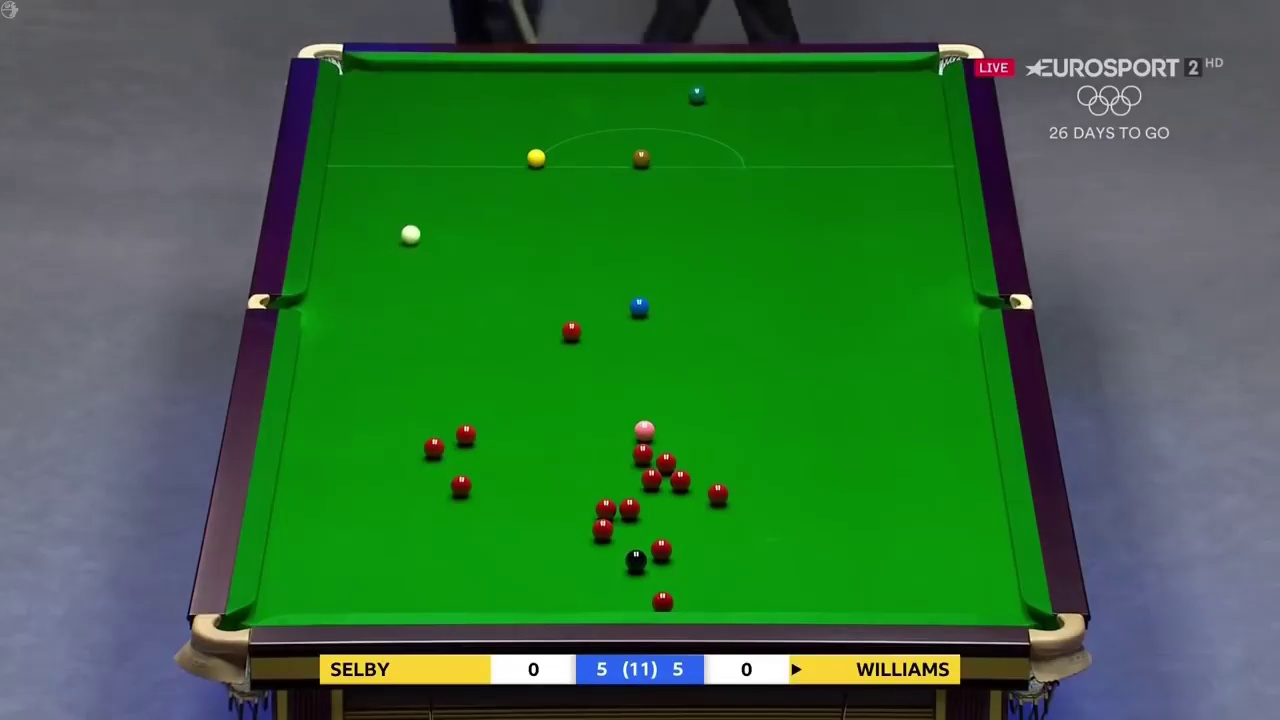ball: (456, 421, 475, 446), (424, 436, 445, 458), (448, 474, 470, 495), (591, 518, 611, 541), (667, 470, 690, 490), (620, 495, 639, 519), (635, 417, 654, 440), (398, 225, 422, 243), (523, 145, 543, 166), (649, 539, 670, 559), (561, 318, 581, 338), (630, 294, 649, 315), (630, 147, 648, 167), (687, 84, 705, 101)
